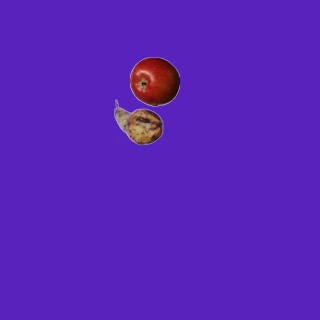Apple Braeburn: (129, 56, 179, 106)
Pear Abate: (113, 97, 163, 147)
